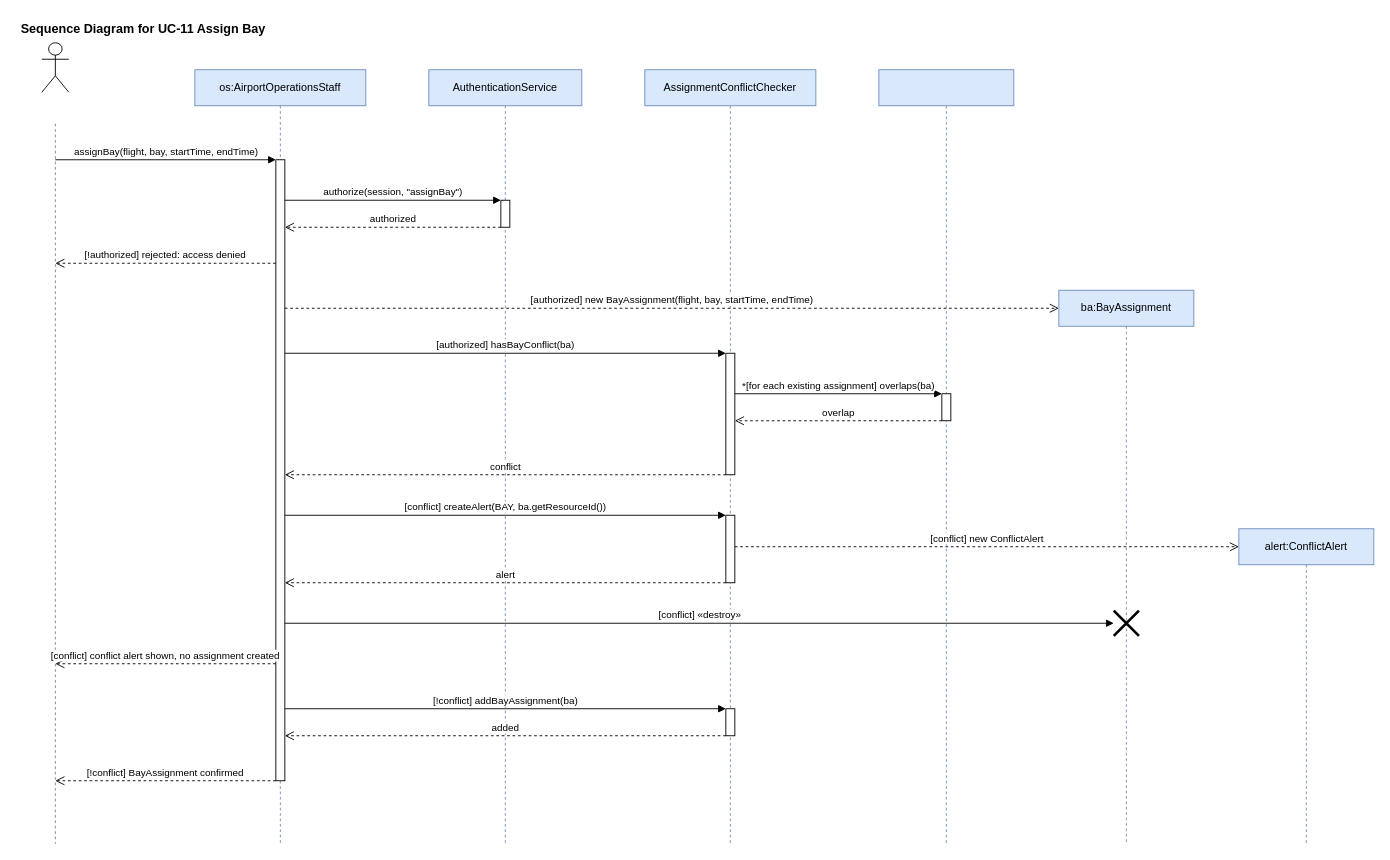
This 1390x860 diagram has some shape labels left out. The shapes that lost their labels are listed below. From the top down, each one's box as (x1, y1, x2, y2) in pixels, then its label:
(41, 42, 69, 92): Airport Operations Staff
(878, 69, 1014, 844): ea:BayAssignment
